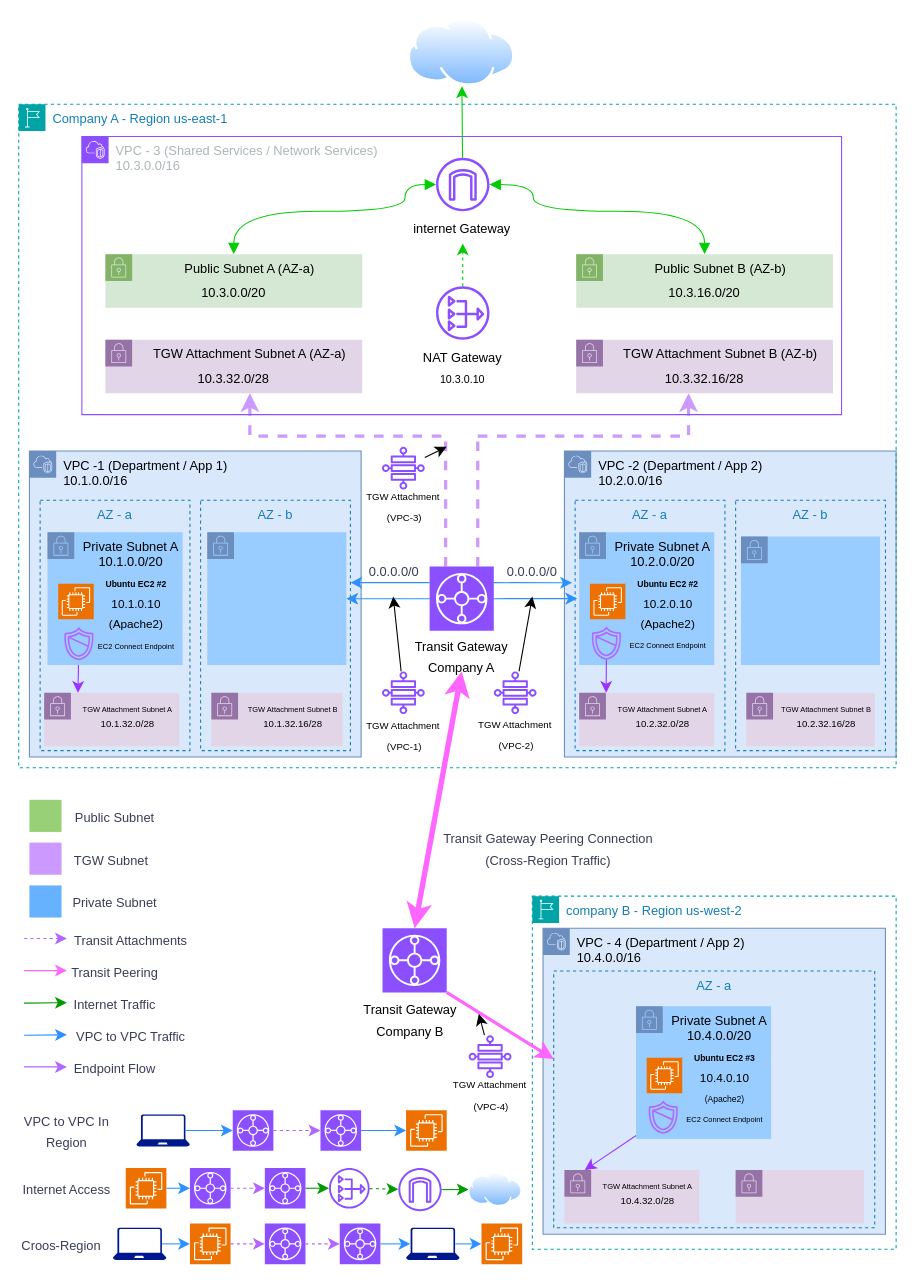
The diagram is 915 pixels wide and 1283 high, and some of its shapes have lost their labels. The centre of each missing label's shape, as x and y in pixels:
"Internet" goes at [461,52].
"Private Subnet B 10.1.16.0/20" goes at [276,598].
"Private Subnet B 10.2.16.0/20" goes at [810,600].
"TGW Attachment Subnet B 10.4.32.16/28" goes at [799,1196].
